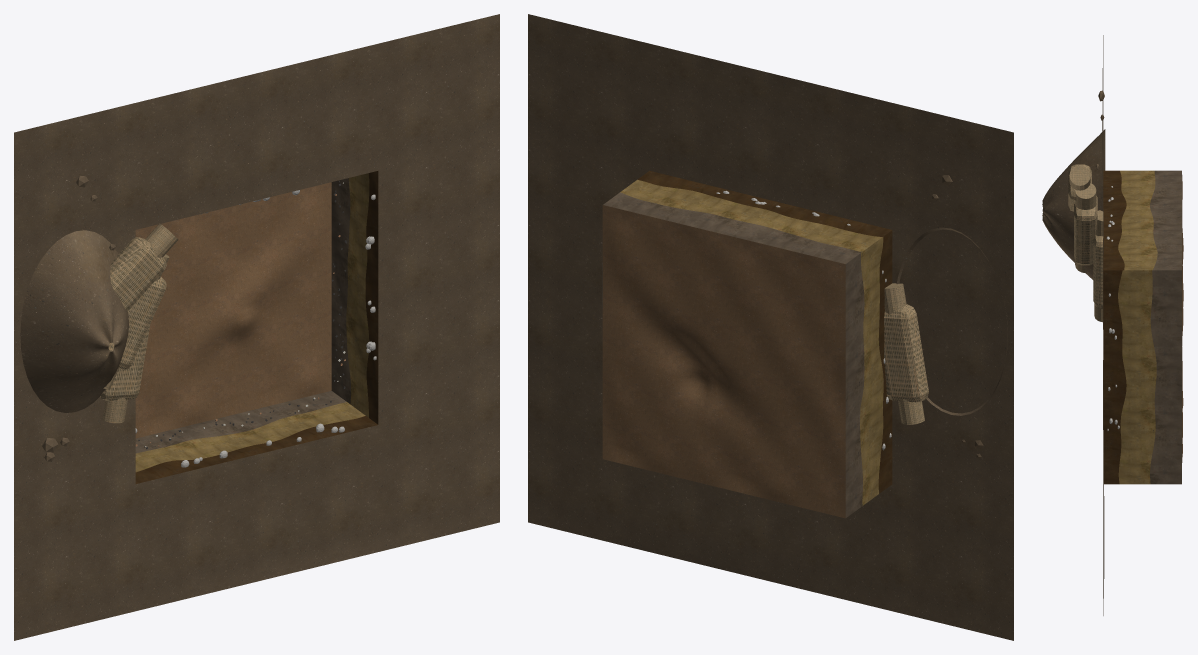
The model's file is dig_site_ground.glb.
The picture shows the model from 3 angles, left to right: view 1: azimuth 30°, elevation 25°; view 2: azimuth 150°, elevation 25°; view 3: azimuth 270°, elevation 25°; orthographic projection. The views are drawn at different scales.
Visible parts, largest first — view 1: GND_TOP_north, GND_TOP_south, GND_FLOOR, GND_TOP_east, GND_HEAP_dome, GND_TOP_west, GND_WALL3_fill, GND_WALL1_fill, GND_WALL3_cult, GND_WALL1_cult, GND_WALL3_top, GND_WALL1_top (+3 smaller); view 2: GND_FLOOR, GND_TOP_south, GND_TOP_north, GND_TOP_west, GND_TOP_east, GND_WALL2_fill, GND_WALL0_fill, GND_WALL2_cult, GND_WALL0_cult, GND_BAG0_body, GND_WALL0_top, GND_WALL2_top; view 3: GND_WALL3_fill, GND_WALL3_cult, GND_WALL3_top, GND_WALL0_fill, GND_HEAP_dome, GND_WALL0_cult, GND_WALL0_top, GND_BAG1_body, GND_BAG0_body, GND_BAG2_roll1, GND_BAG1_roll1, GND_TOP_south (+2 smaller).
Boxes of the visible parts, box(x1,y1,x2,y2) form: GND_TOP_north: box(14, 395, 499, 640); GND_TOP_south: box(14, 14, 499, 259); GND_FLOOR: box(135, 182, 331, 438); GND_TOP_east: box(378, 141, 499, 424); GND_HEAP_dome: box(20, 230, 128, 412); GND_TOP_west: box(14, 230, 135, 513); GND_WALL3_fill: box(346, 173, 369, 417); GND_WALL1_fill: box(135, 402, 365, 472); GND_WALL3_cult: box(331, 178, 350, 403); GND_WALL1_cult: box(135, 391, 346, 453); GND_WALL3_top: box(365, 171, 378, 424); GND_WALL1_top: box(135, 416, 377, 483); GND_FLOOR: box(602, 205, 845, 518); GND_TOP_south: box(528, 14, 1013, 259); GND_TOP_north: box(528, 395, 1013, 640); GND_TOP_west: box(892, 230, 1013, 513); GND_TOP_east: box(528, 141, 648, 413); GND_WALL2_fill: box(860, 237, 883, 505); GND_WALL0_fill: box(620, 179, 882, 252); GND_WALL2_cult: box(845, 253, 864, 517); GND_WALL0_cult: box(603, 192, 861, 263); GND_BAG0_body: box(884, 304, 928, 402); GND_WALL0_top: box(637, 170, 891, 236); GND_WALL2_top: box(878, 230, 892, 493); GND_WALL3_fill: box(1118, 270, 1156, 484); GND_WALL3_cult: box(1150, 270, 1181, 484); GND_WALL3_top: box(1103, 270, 1126, 484); GND_WALL0_fill: box(1118, 170, 1157, 270); GND_HEAP_dome: box(1042, 129, 1105, 279); GND_WALL0_cult: box(1150, 170, 1181, 270); GND_WALL0_top: box(1103, 170, 1126, 270); GND_BAG1_body: box(1074, 195, 1097, 265); GND_BAG0_body: box(1093, 235, 1103, 308); GND_BAG2_roll1: box(1069, 165, 1090, 190); GND_BAG1_roll1: box(1075, 183, 1096, 209); GND_TOP_south: box(1102, 35, 1103, 316).
Size of the model in its own units: 3 by 3 by 0.8982.
Materials: 11 (7 with a texture image).
